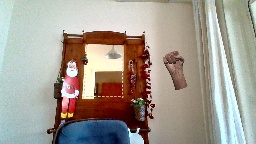Pugno: (161, 49, 185, 73)
